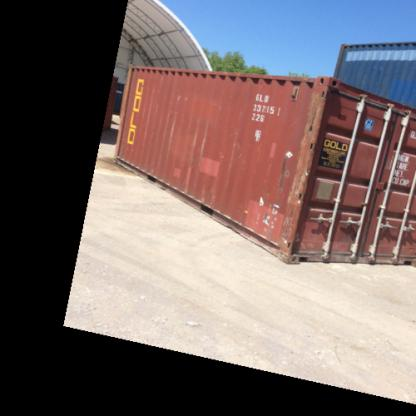Damage: (274, 84, 327, 198), (237, 202, 304, 250), (224, 126, 245, 179), (160, 103, 178, 157), (187, 115, 208, 151), (194, 181, 220, 209), (144, 93, 156, 143), (179, 162, 192, 194), (175, 89, 193, 100)
